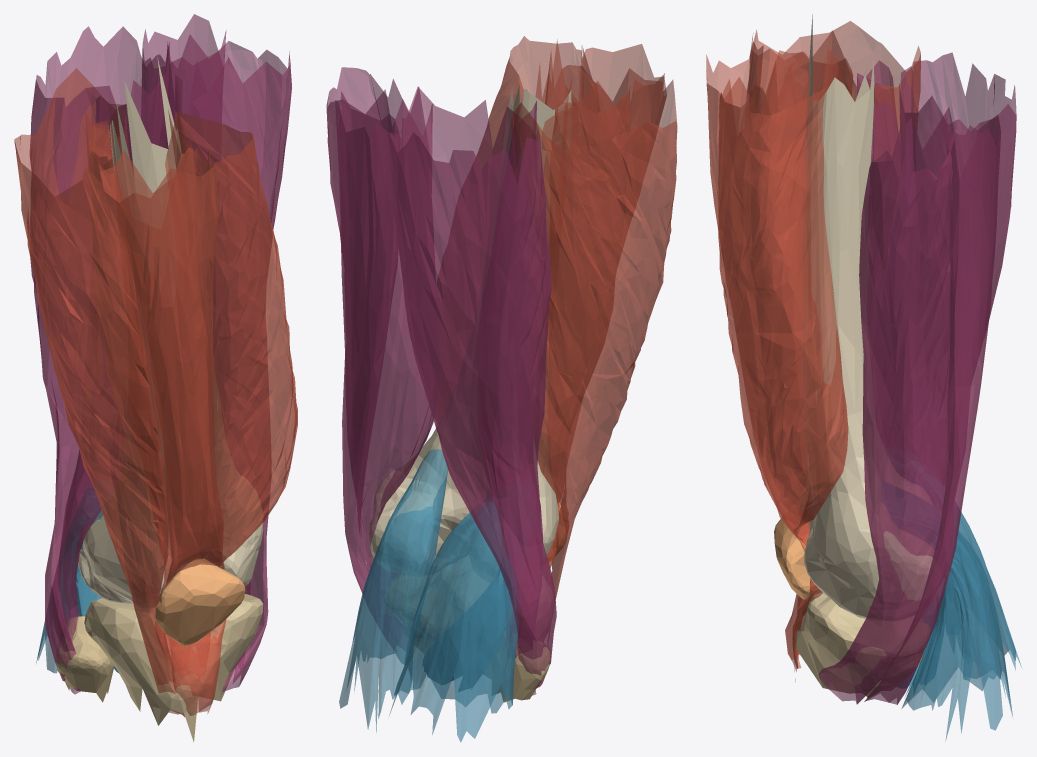
File: knee.glb
3 views of the same model, side by side, from view 1: azimuth 30°, elevation 25°; view 2: azimuth 150°, elevation 25°; view 3: azimuth 270°, elevation 25° (orthographic). The views are drawn at different scales.
Visible parts, largest first — view 1: quads, hamstrings, femur, tibia, patella, fibula, gastroc, popliteus; view 2: hamstrings, quads, gastroc, femur, tibia, popliteus, fibula; view 3: hamstrings, quads, femur, gastroc, tibia, patella, popliteus.
Part boxes in pixels (x1,y1,x2,y2): quads: (14,68,297,717); hamstrings: (29,14,291,694); femur: (78,57,263,608); tibia: (84,594,263,742); patella: (154,558,245,645); fibula: (56,616,114,702); gastroc: (36,485,113,673); popliteus: (71,517,118,672); hamstrings: (326,67,556,695); quads: (476,36,677,599); gastroc: (339,449,518,742); femur: (369,84,571,582); tibia: (384,556,553,678); popliteus: (423,569,505,691); fibula: (490,632,550,702); hamstrings: (818,52,1016,704); quads: (706,21,920,671); femur: (800,14,940,620); gastroc: (901,512,1021,740); tibia: (793,590,929,697); patella: (774,517,818,599); popliteus: (897,578,948,697).
Bounding box in the file's own units: 0.1454 × 0.3178 × 0.136.
